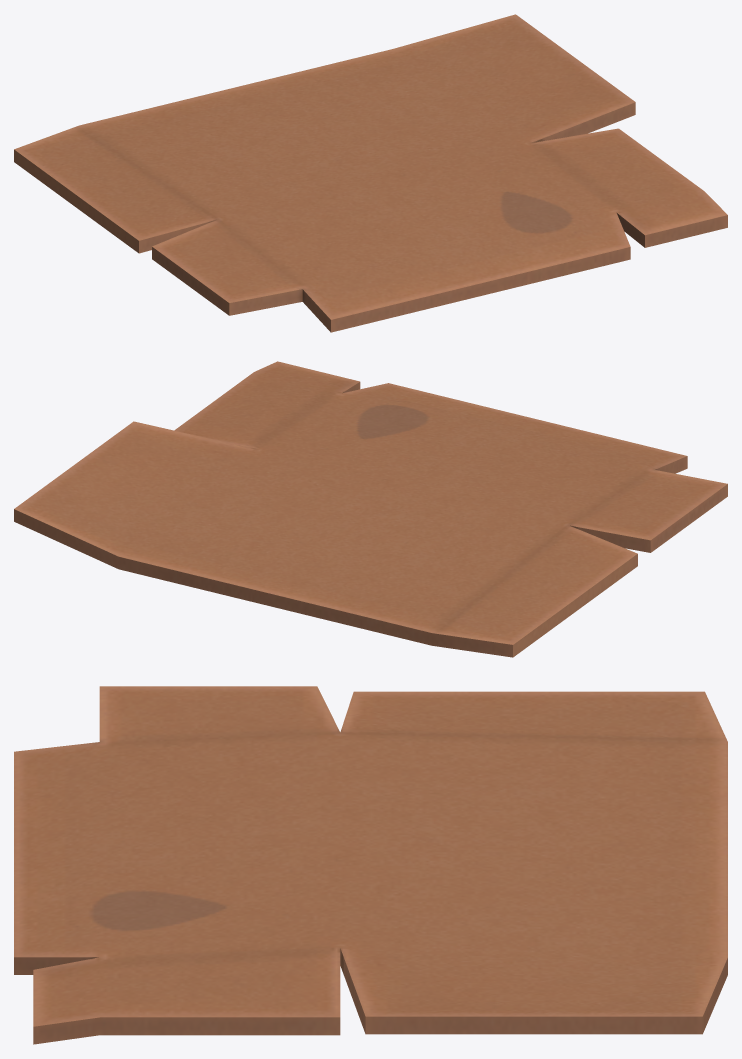
The model's file is SM_PaperBox__7.fbx.
3 views of the same model, one above another, from view 1: azimuth 30°, elevation 25°; view 2: azimuth 150°, elevation 25°; view 3: azimuth 270°, elevation 25° (orthographic). The views are drawn at different scales.
Visible parts, largest first — view 1: Mat_PaperBox_02; view 2: Mat_PaperBox_02; view 3: Mat_PaperBox_02.
Boxes of the visible parts, x1,y1,x2,y2 form: Mat_PaperBox_02: [14, 14, 727, 332]; Mat_PaperBox_02: [14, 361, 727, 657]; Mat_PaperBox_02: [14, 686, 727, 1044].
Size of the model in its own units: 1.82 by 0.1183 by 1.6.
Materials: 1 (1 with a texture image).
